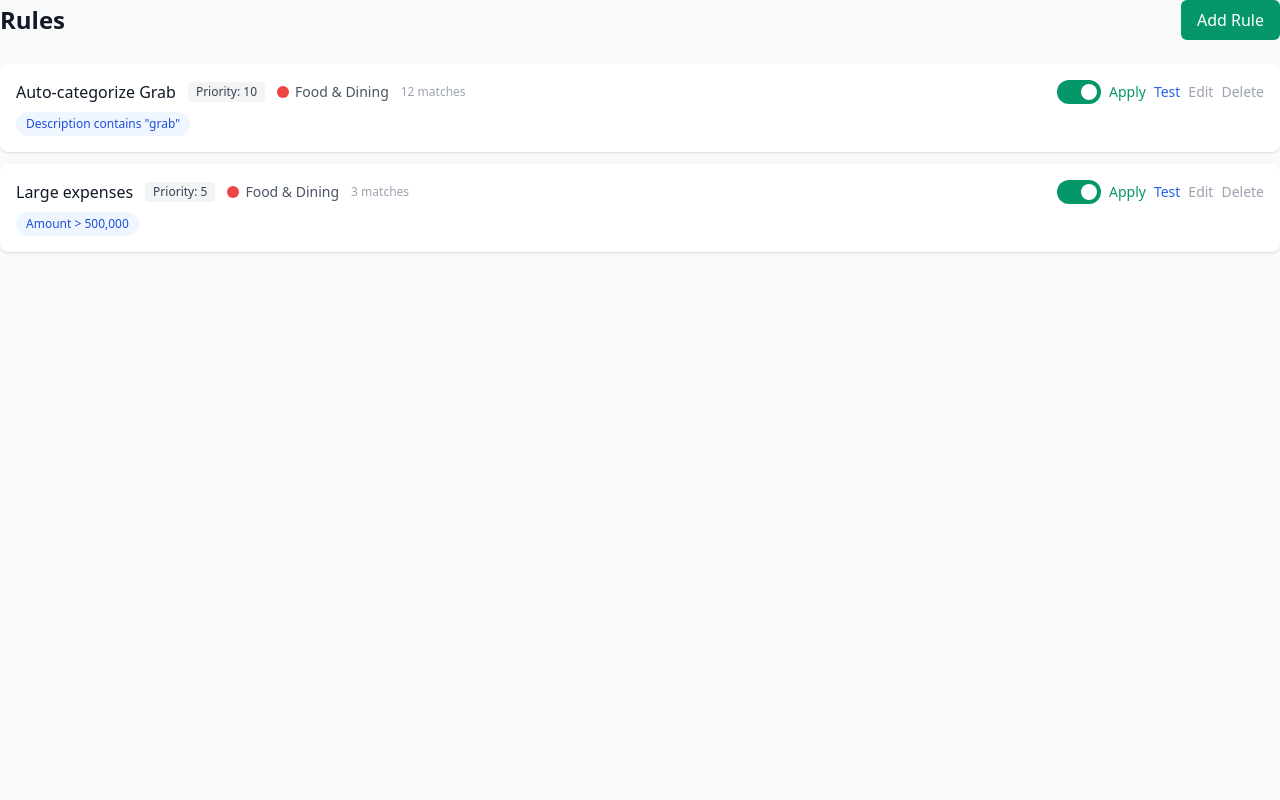
Test case: RulesPage › opens add rule form when clicking add button
Click the button "Add Rule" at (1230, 20), box [1181,0,1279,40]
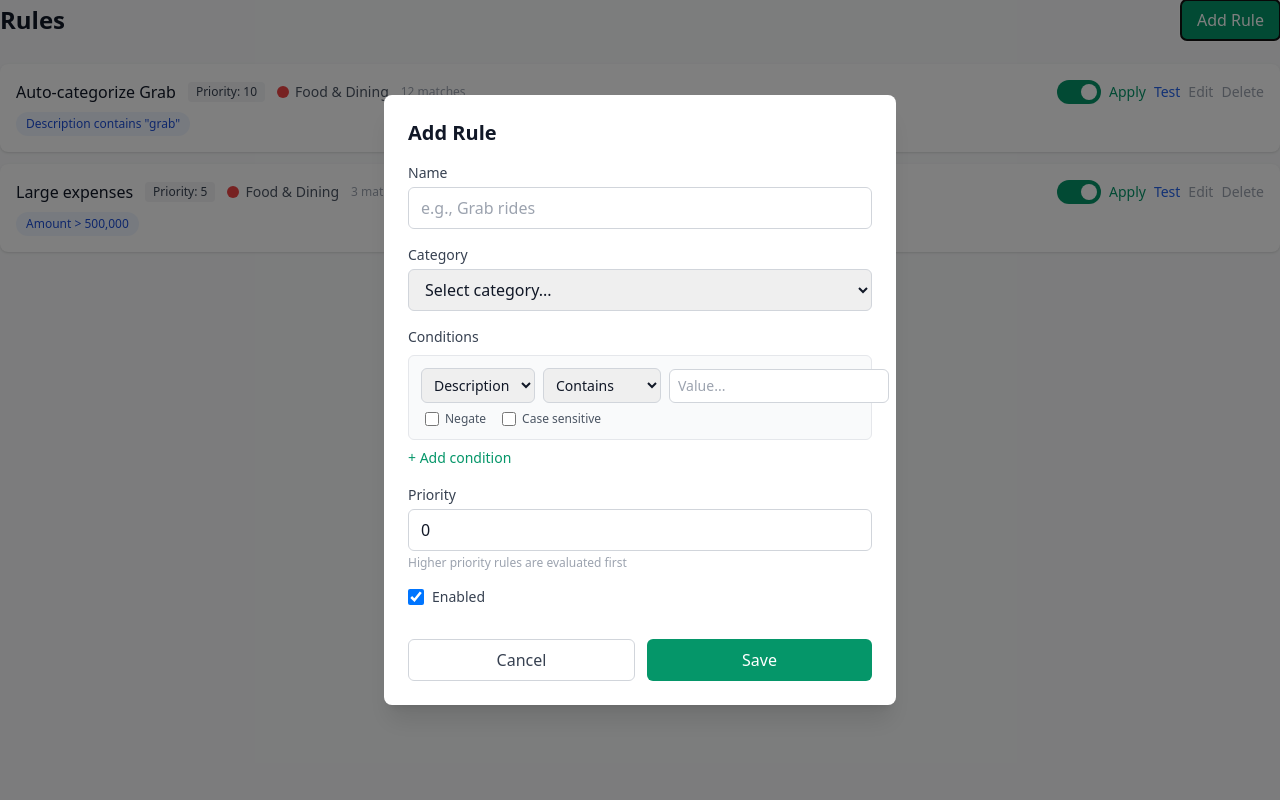
Expected: the heading "Add Rule" is shown, [408,119,497,146]
Expected: the field with placeholder "e.g., Grab rides" is shown, [408,187,872,229]
Expected: the button "Save" is shown, [647,639,872,681]
